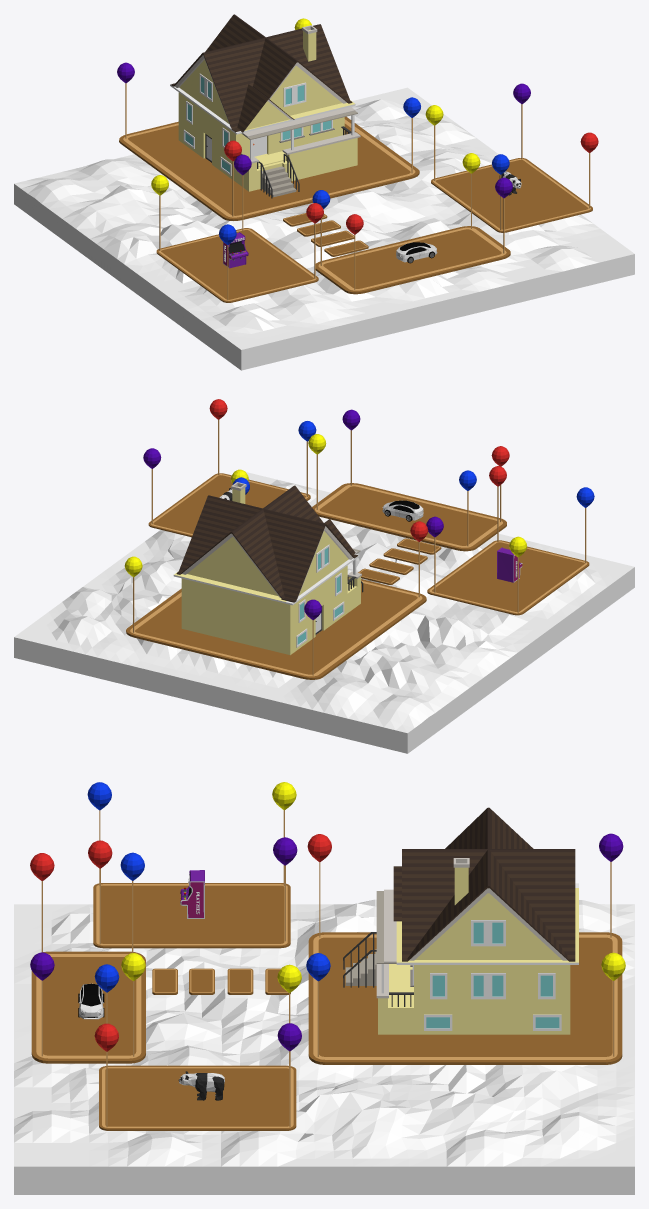
3 views of the same model, one above another, from view 1: azimuth 30°, elevation 25°; view 2: azimuth 150°, elevation 25°; view 3: azimuth 270°, elevation 25° (orthographic). The views are drawn at different scales.
Parts seen in each view (by area): view 1: Cube.013, Cube.1555, OBJRANDOM_ARCADE, VEHICLES_TESLA; view 2: Cube.013, Cube.1555, OBJRANDOM_ARCADE, VEHICLES_TESLA; view 3: Cube.013, Cube.1555, OBJRANDOM_ARCADE, ANIMAL_PANDA, VEHICLES_TESLA.
Boxes of the visible parts, x1,y1,x2,y2 form: Cube.013: [14, 18, 634, 370]; Cube.1555: [170, 14, 360, 198]; OBJRANDOM_ARCADE: [223, 232, 248, 268]; VEHICLES_TESLA: [396, 242, 437, 263]; Cube.013: [14, 399, 634, 753]; Cube.1555: [173, 482, 363, 655]; OBJRANDOM_ARCADE: [497, 547, 522, 582]; VEHICLES_TESLA: [382, 500, 423, 521]; Cube.013: [14, 782, 634, 1194]; Cube.1555: [343, 807, 578, 1034]; OBJRANDOM_ARCADE: [180, 870, 204, 918]; ANIMAL_PANDA: [178, 1071, 224, 1100]; VEHICLES_TESLA: [78, 983, 104, 1019].
Size of the model in its own units: 4000 by 1690 by 4000.
Materials: 37 (1 with a texture image).
